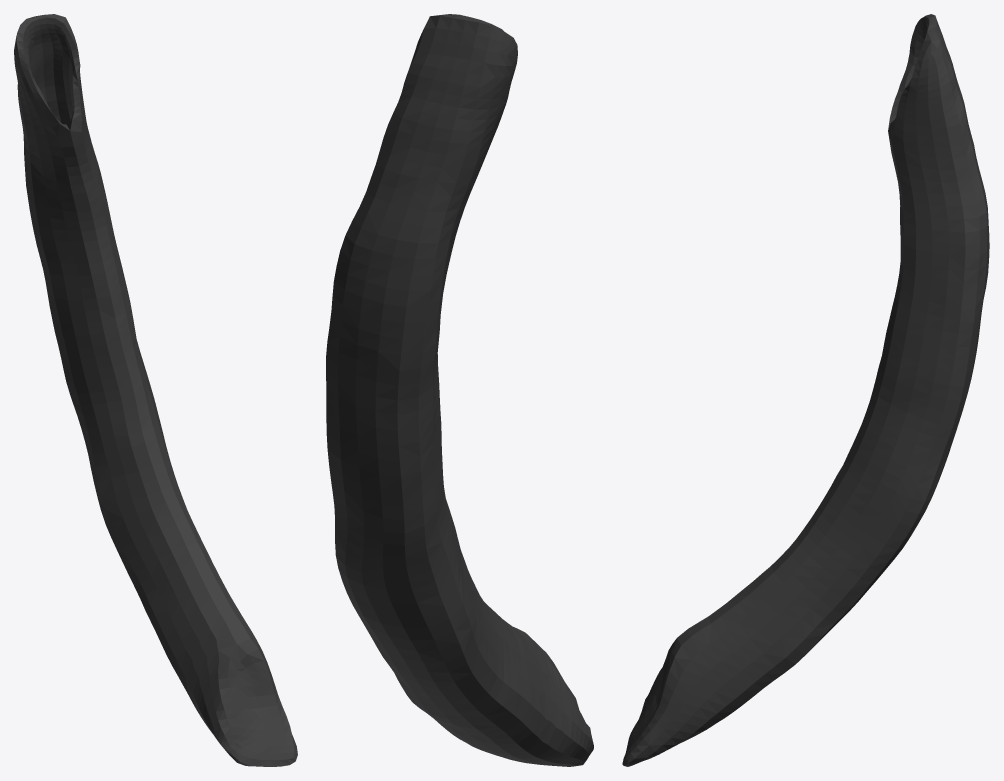
The picture shows the model from 3 angles, left to right: view 1: azimuth 30°, elevation 25°; view 2: azimuth 150°, elevation 25°; view 3: azimuth 270°, elevation 25°; orthographic projection. The views are drawn at different scales.
Parts seen in each view (by area): view 1: world; view 2: world; view 3: world.
Boxes of the visible parts, <box> form: world: <box>14,14,297,766</box>; world: <box>326,14,593,766</box>; world: <box>622,14,989,766</box>.
Bounding box in the file's own units: 0.1585 × 0.6991 × 0.3357.
Materials: 1 (1 with a texture image).
